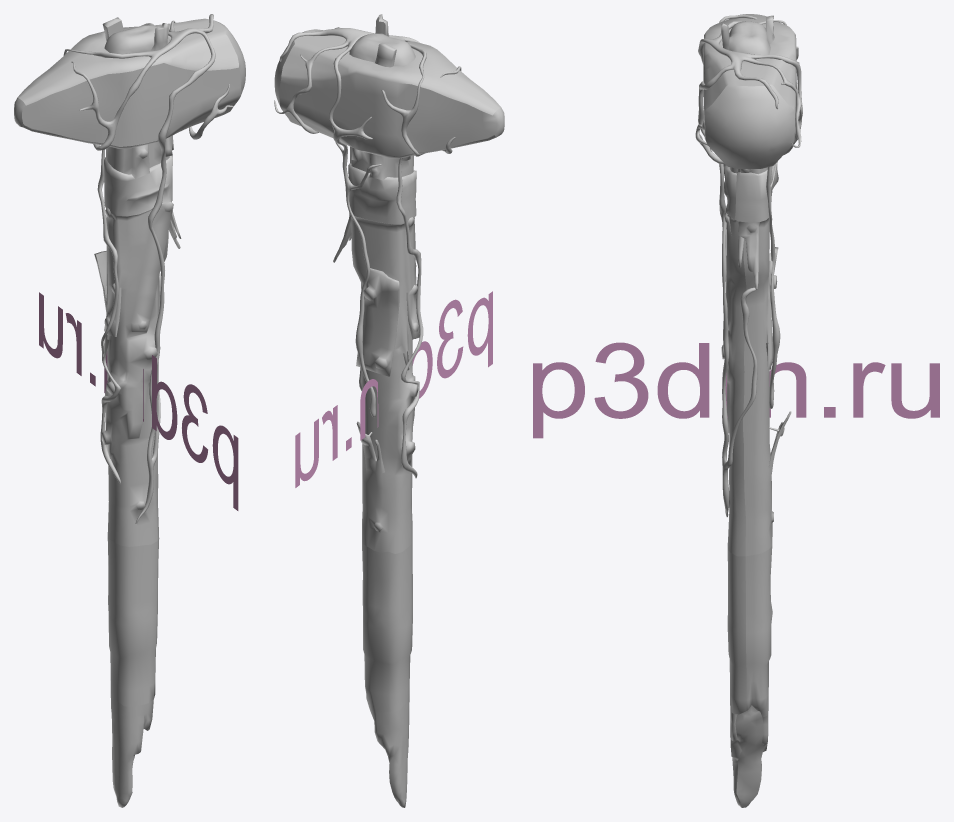
File: Hammer.obj
3 views of the same model, side by side, from view 1: azimuth 30°, elevation 25°; view 2: azimuth 150°, elevation 25°; view 3: azimuth 270°, elevation 25° (orthographic). The views are drawn at different scales.
Parts seen in each view (by area): view 1: Object001, Hammer01_prestige01_REF, Text001; view 2: Object001, Hammer01_prestige01_REF, Text001; view 3: Object001, Text001, Hammer01_prestige01_REF.
Part boxes in pixels (left/top/right/bottom): Object001: left=14, top=17, right=245, bottom=807; Hammer01_prestige01_REF: left=63, top=14, right=233, bottom=524; Text001: left=39, top=292, right=238, bottom=510; Object001: left=274, top=14, right=504, bottom=807; Hammer01_prestige01_REF: left=274, top=27, right=461, bottom=478; Text001: left=295, top=291, right=492, bottom=487; Object001: left=703, top=14, right=796, bottom=807; Text001: left=533, top=342, right=939, bottom=438; Hammer01_prestige01_REF: left=695, top=15, right=802, bottom=517.
Bounding box in the file's own units: 32.13 × 107 × 49.42.
